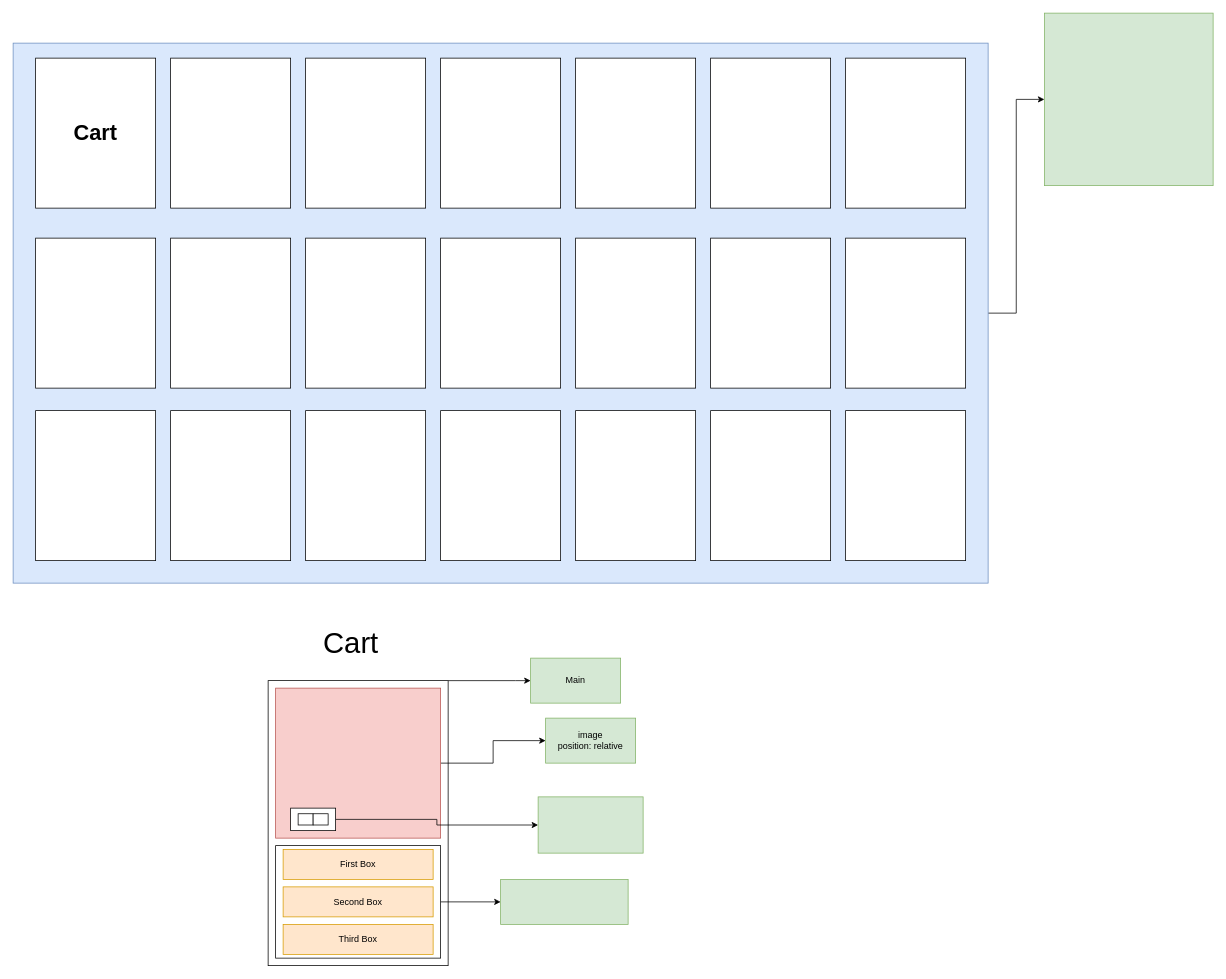
Some shapes in this 1226 by 979 pixel diagram are drawn without their labels. The shapes that lost their labels are listed below. From the top down, each one's box as (x1, y1, x2, y2) in pixels, then its label:
(1044, 12, 1213, 186): Main Container display:flex flex-wrap:wrap gap:30px padding:12px
(537, 796, 643, 853): absolute-content position: absolute align-item: baseline hover effect
(500, 879, 628, 924): Secondary Container display: Flex Flex-direction: coloumn
